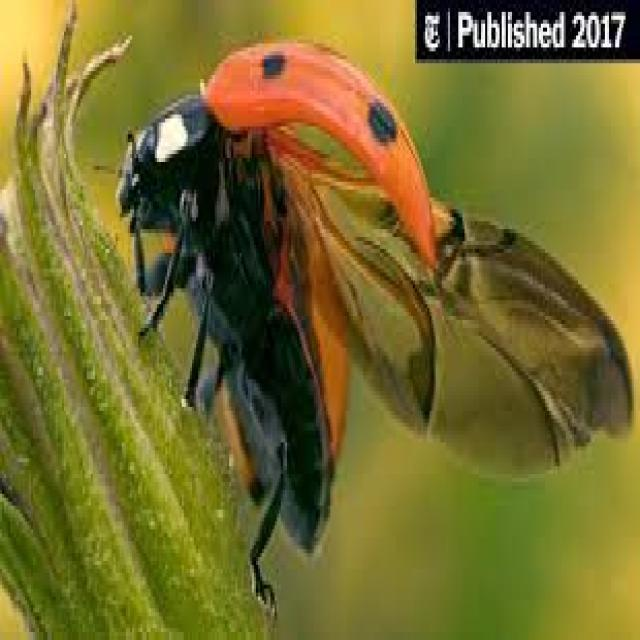ladybug: (116, 40, 632, 604)
